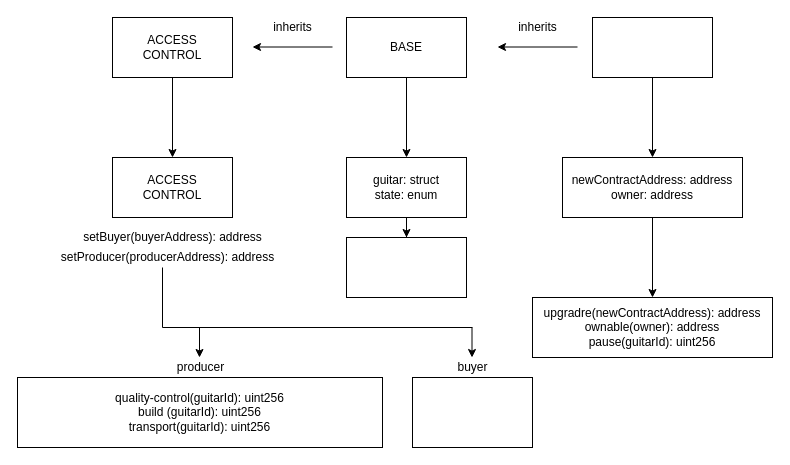
The diagram is 790 pixels wide and 465 high, and some of its shapes have lost their labels. The centre of each missing label's shape, as x and y in pixels:
"buy(id): uint256" goes at pixel 472 412.
"CORE" goes at pixel 652 47.
"quality-controlled built transported sold" goes at pixel 406 267.
